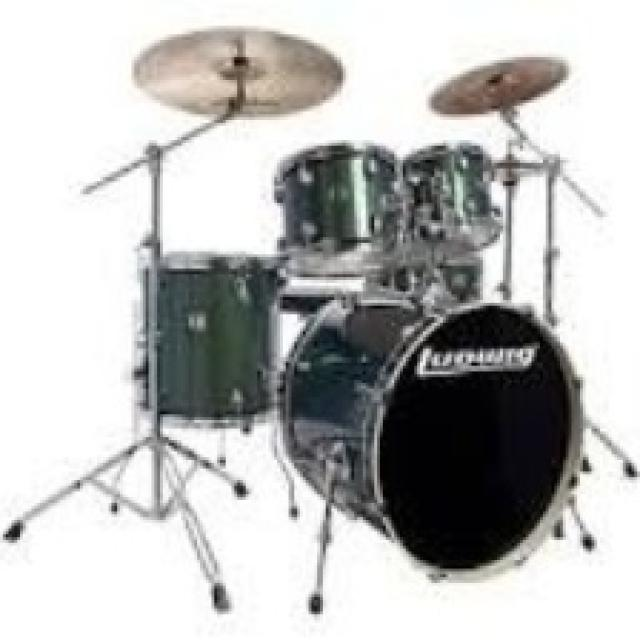drums: (0, 24, 640, 622)
